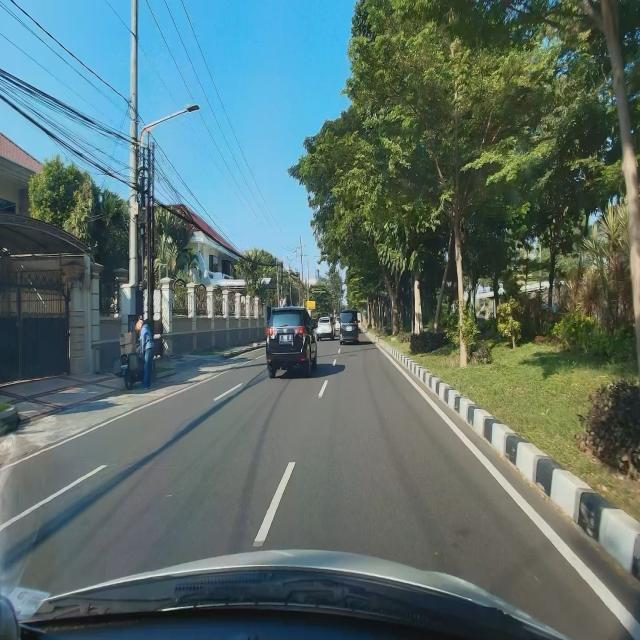car: (265, 304, 317, 380), (339, 308, 359, 346)
license-plate: (280, 334, 292, 343)
